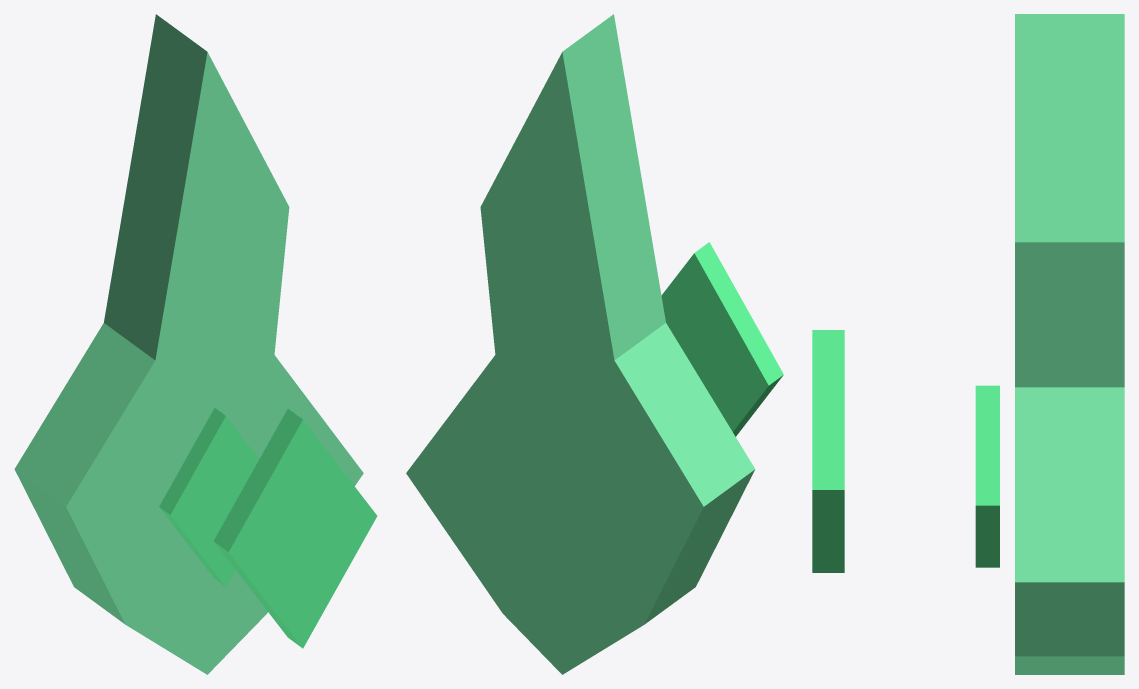
Rendered from azure_flame.obj.
The picture shows the model from 3 angles, left to right: view 1: azimuth 30°, elevation 25°; view 2: azimuth 150°, elevation 25°; view 3: azimuth 270°, elevation 25°; orthographic projection. The views are drawn at different scales.
Visible parts, largest first — view 1: azure_flame, azure_flame_edge, azure_core, azure_flame_core, azure_core_edge, azure_flame_core_edge; view 2: azure_flame, azure_flame_edge, azure_core, azure_core_edge; view 3: azure_flame_edge, azure_core_edge, azure_flame_core_edge.
Boxes of the visible parts, left/top/right/bottom form: azure_flame: left=66, top=52, right=363, bottom=674; azure_flame_edge: left=14, top=14, right=207, bottom=624; azure_core: left=228, top=420, right=377, bottom=648; azure_flame_core: left=170, top=416, right=259, bottom=586; azure_core_edge: left=213, top=409, right=302, bottom=648; azure_flame_core_edge: left=159, top=408, right=225, bottom=586; azure_flame: left=406, top=52, right=703, bottom=674; azure_flame_edge: left=562, top=14, right=755, bottom=624; azure_core: left=661, top=253, right=768, bottom=431; azure_core_edge: left=694, top=242, right=783, bottom=436; azure_flame_edge: left=1015, top=14, right=1124, bottom=674; azure_core_edge: left=812, top=330, right=844, bottom=572; azure_flame_core_edge: left=975, top=385, right=999, bottom=567.
Bounding box in the file's own units: 0.272 × 0.544 × 0.2328.
